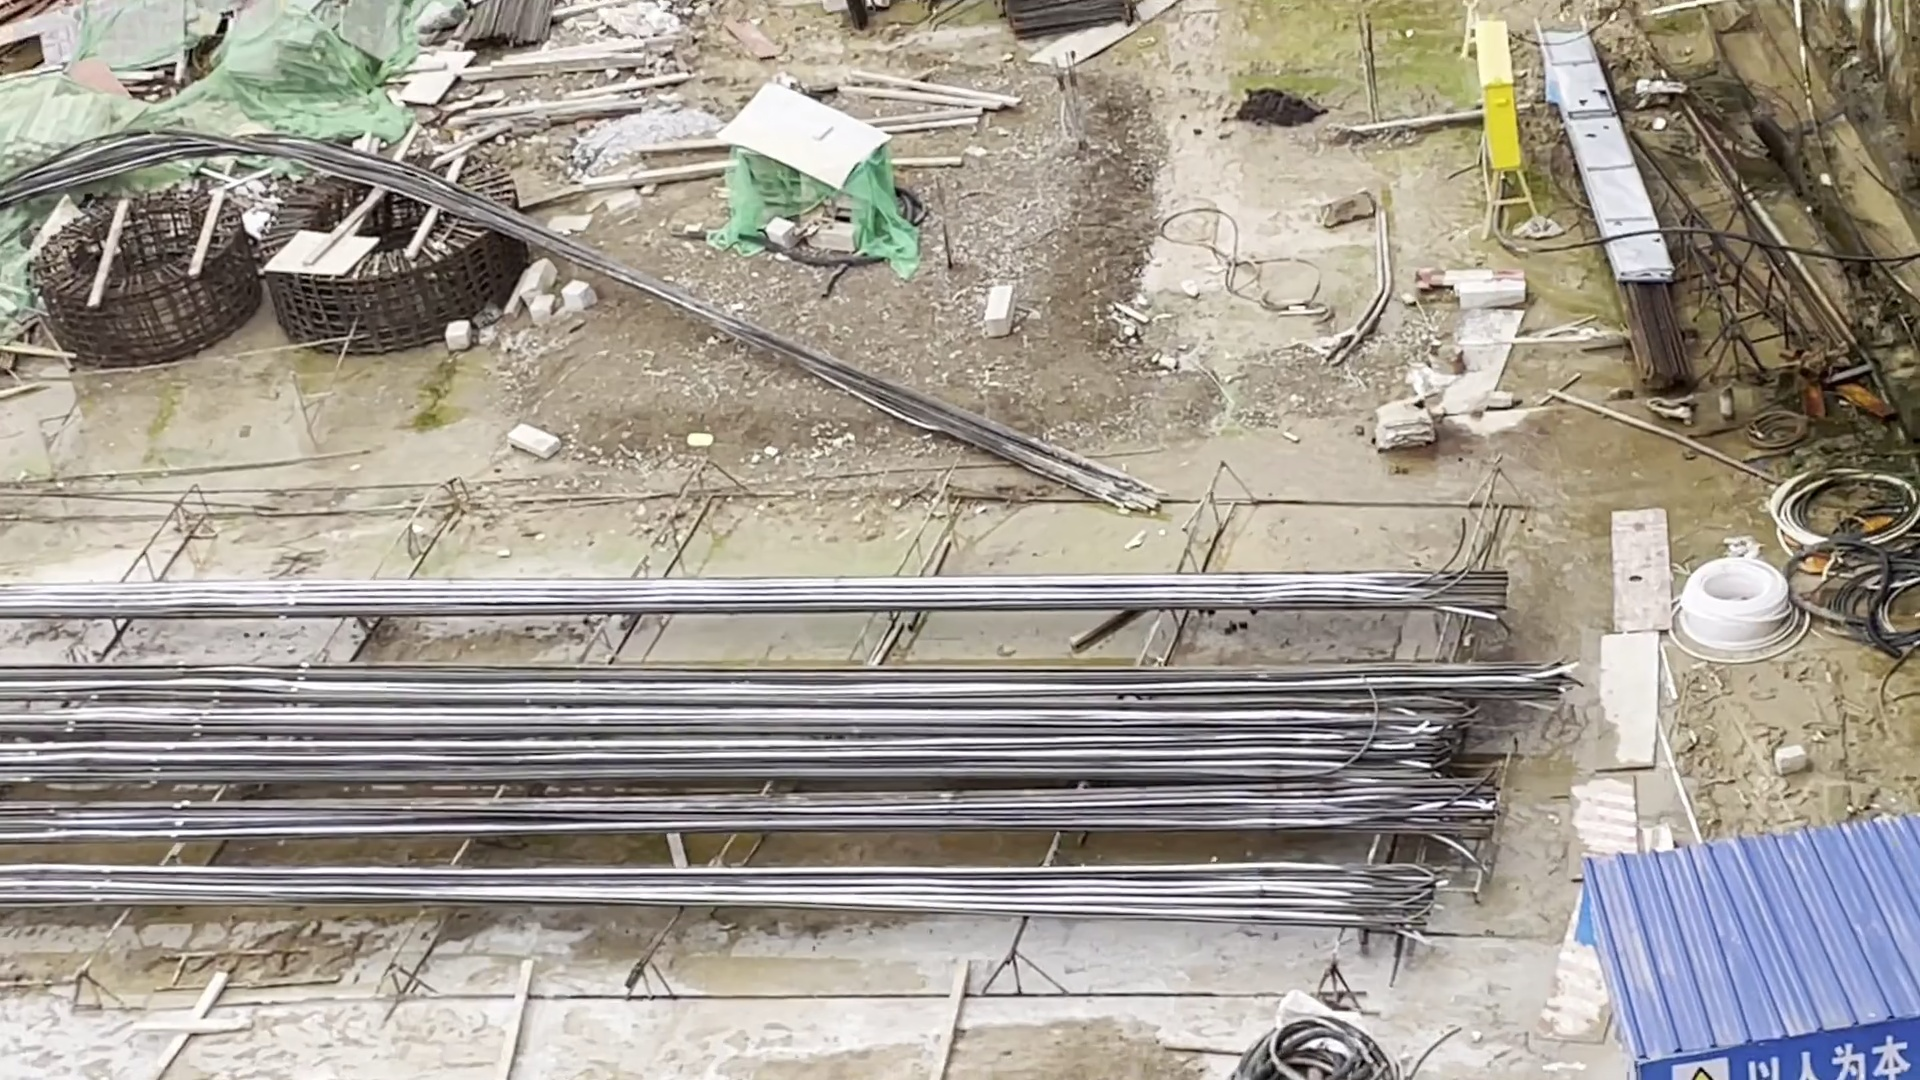ebox: (1441, 15, 1534, 203)
rebar: (1, 564, 1425, 956)
